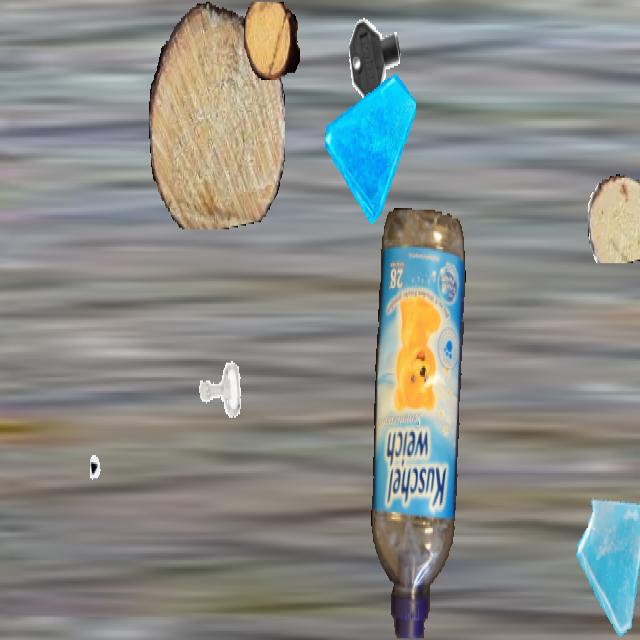glass: (325, 62, 415, 222), (575, 486, 640, 638)
metal: (90, 423, 152, 533), (345, 2, 407, 112), (193, 343, 245, 436)
plastic: (370, 208, 468, 638)
wood: (149, 2, 285, 229), (588, 174, 640, 263), (244, 2, 300, 80)
